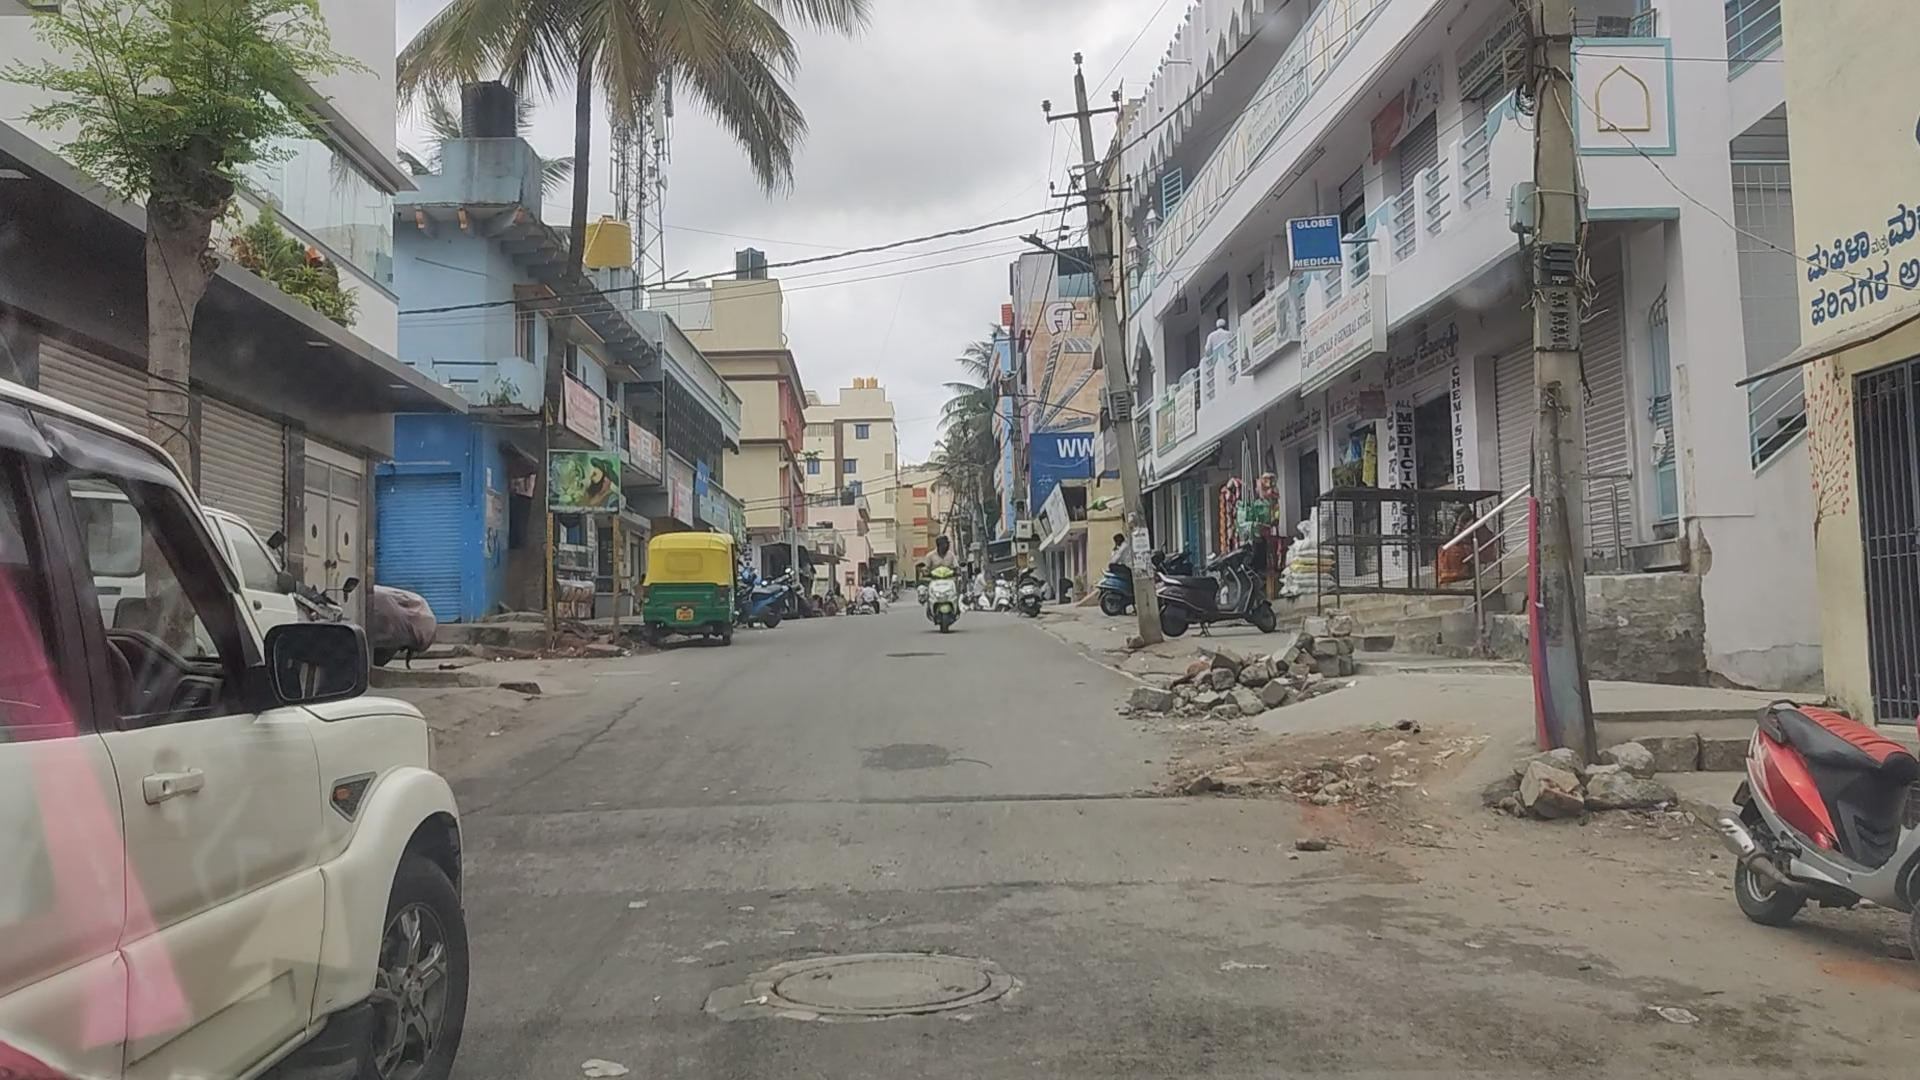RoadDamages: (698, 914, 1033, 1056)
